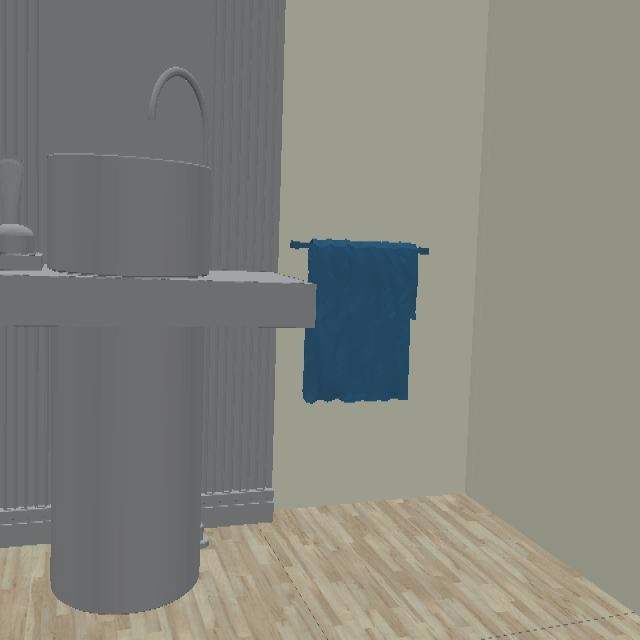washbasin: (41, 147, 216, 280)
